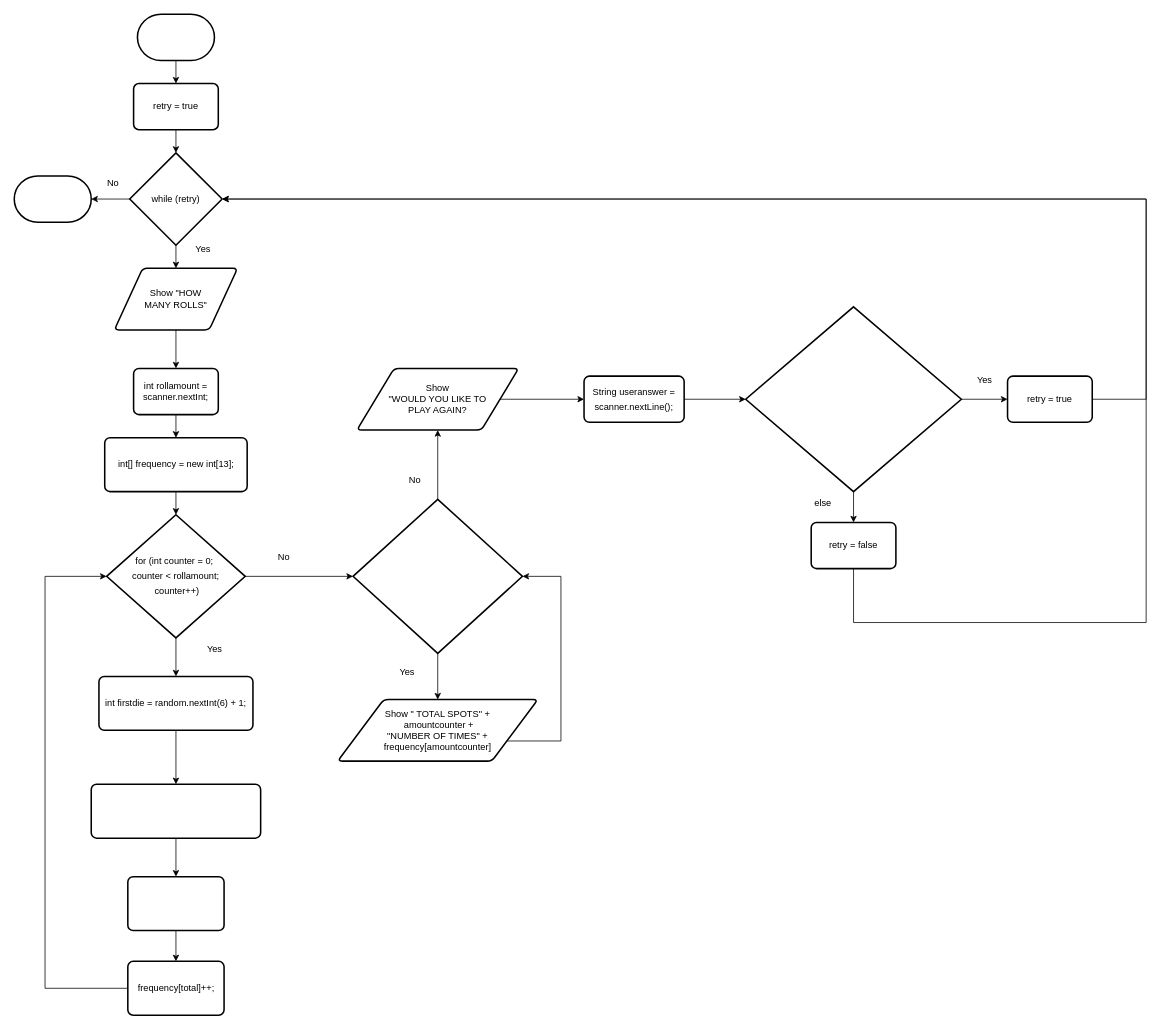
This 1166x1029 diagram has some shape labels left out. The box of each missing label's shape, as (x1, y1, x2, y2) in pixels:
for (int amountcounter = 0; amountcounter <= 12; amountcounter++): (352, 498, 523, 654)
if (useranswer.equalsIgnoreCase("YES") || useranswer.equalsIgnoreCase("Y")): (745, 306, 962, 492)
int seconddie = random.nextInt(6) + 1;: (90, 783, 261, 839)
int total = firstdie + seconddie;: (127, 875, 224, 931)
Start: (136, 13, 215, 61)
Stop: (13, 175, 92, 223)
